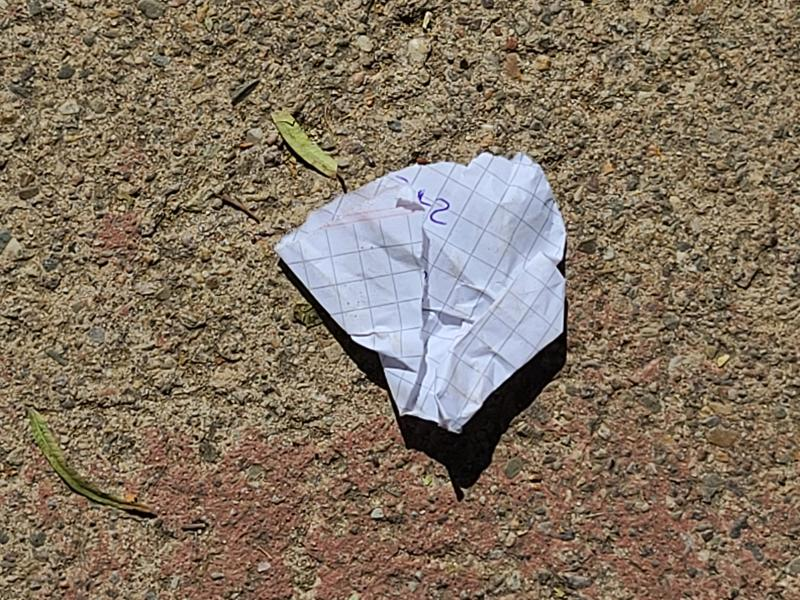papel: (275, 153, 567, 435)
